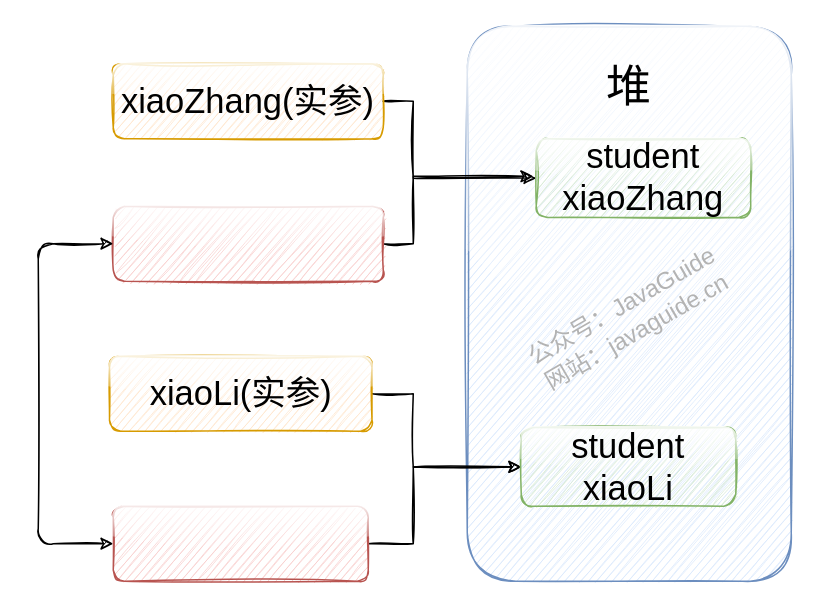
Some shapes in this 818 by 608 pixel diagram are drawn without their labels. The centre of each missing label's shape, as x and y in pixels:
"person1(形参)" belongs at pixel 247 243.
"person2(形参)" belongs at pixel 240 543.
